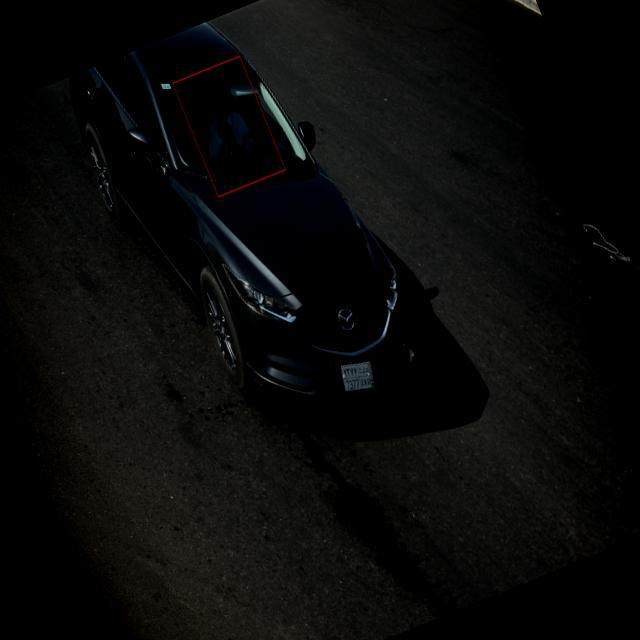windshield: (140, 50, 311, 191)
